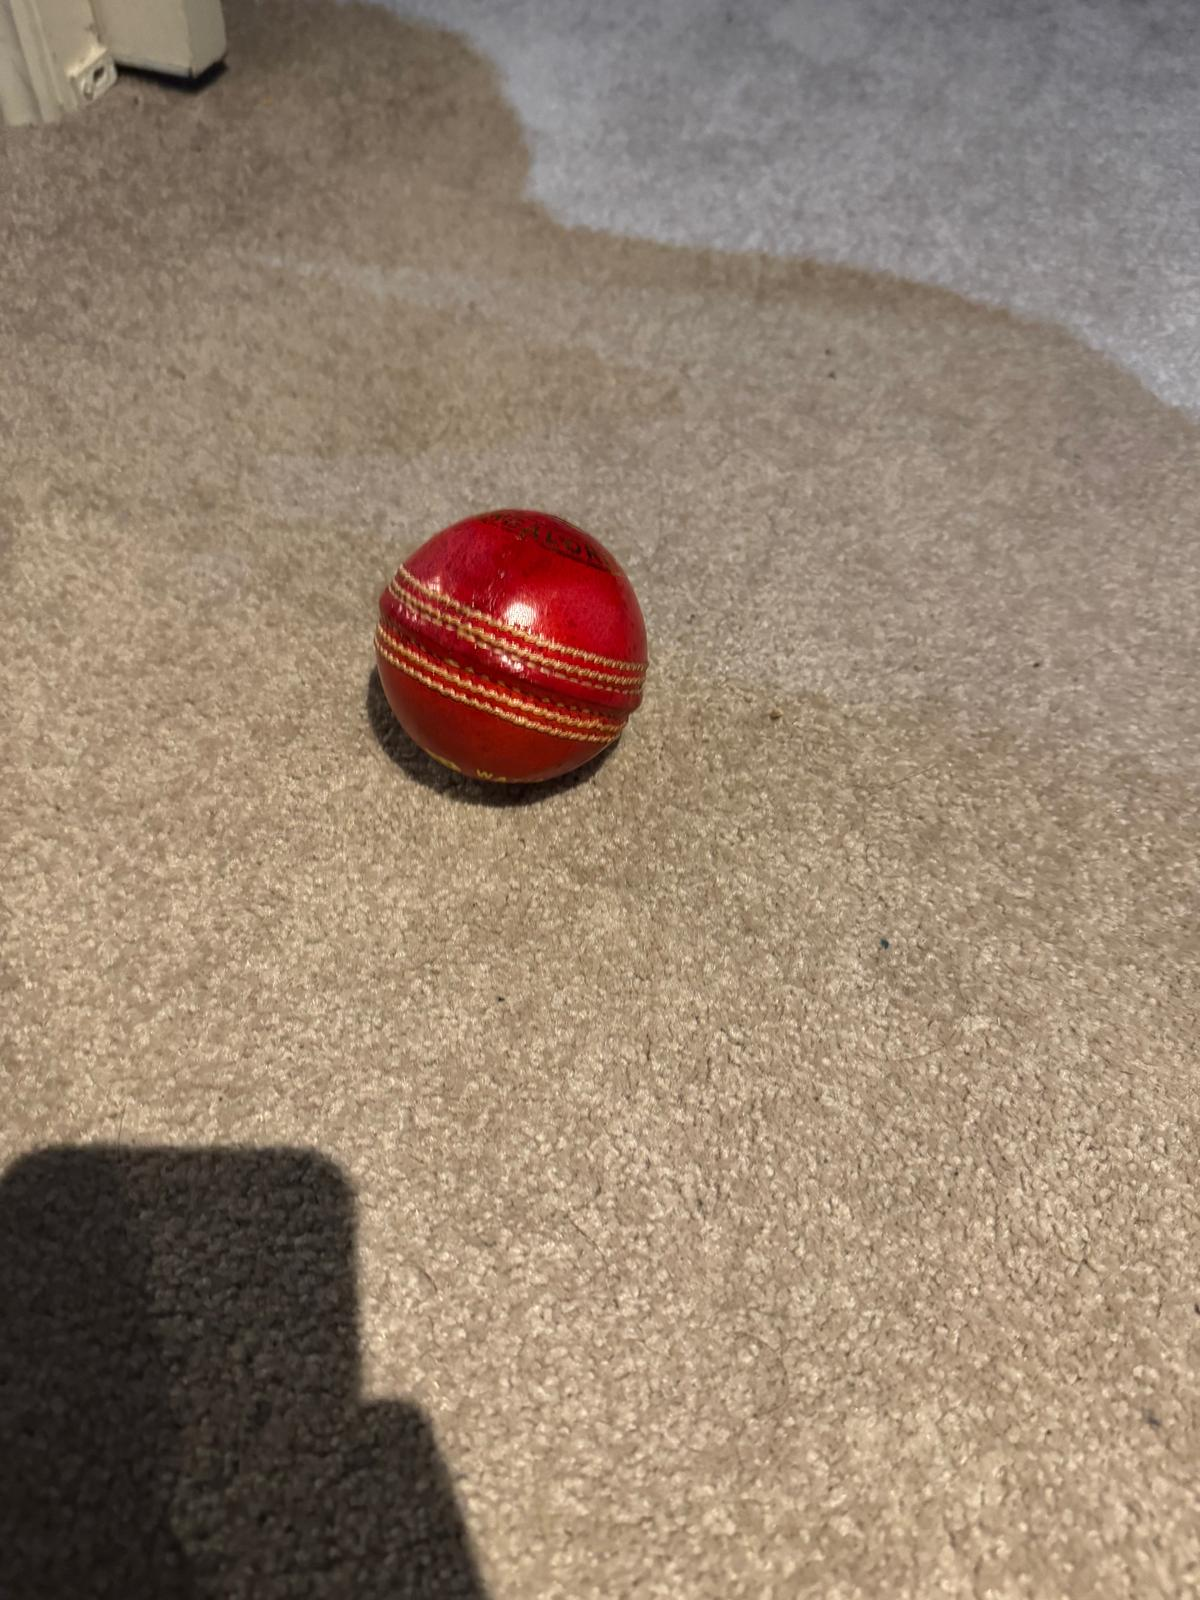Red_Ball: (335, 490, 657, 815)
